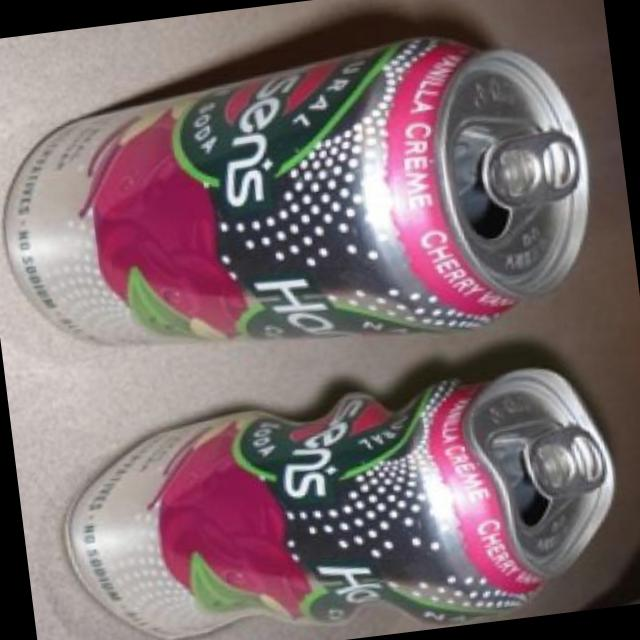metal: (8, 35, 590, 340), (69, 365, 615, 634)
